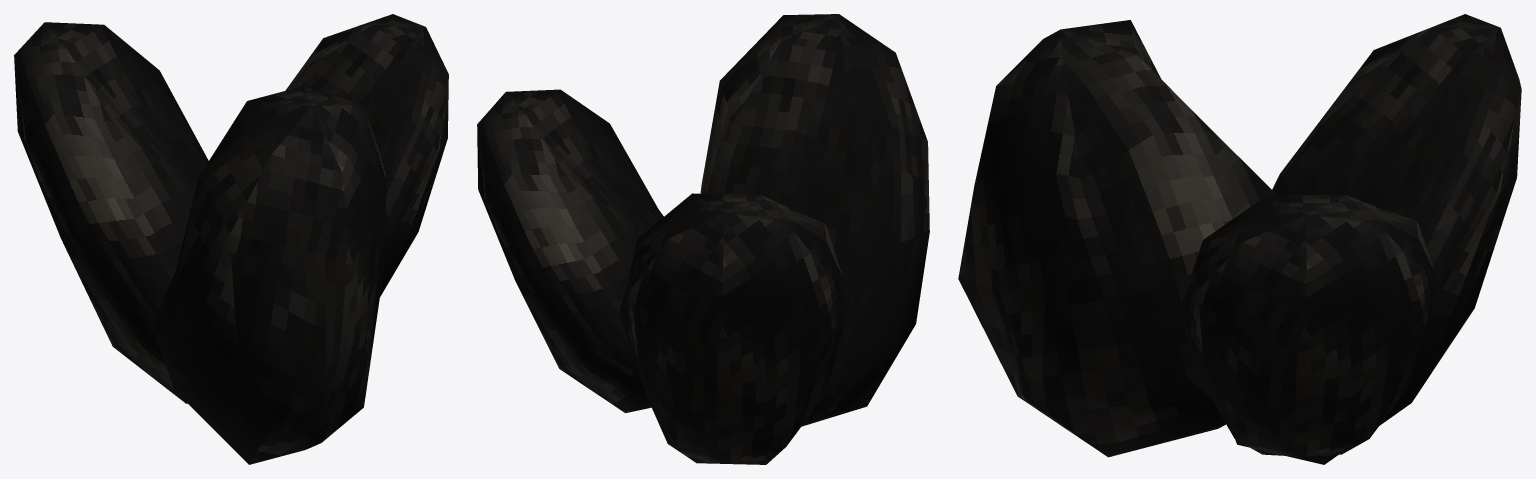
Rendered from rocks.obj.
3 renders of one model, left to right at view 1: azimuth 30°, elevation 25°; view 2: azimuth 150°, elevation 25°; view 3: azimuth 270°, elevation 25°, orthographic. The views are drawn at different scales.
Visible parts, largest first — view 1: Icosphere.001, Icosphere.002, Icosphere; view 2: Icosphere.001, Icosphere.002, Icosphere; view 3: Icosphere.001, Icosphere, Icosphere.002.
Part boxes in pixels (x1,y1,x2,y2): Icosphere.001: (152, 86, 386, 464); Icosphere.002: (14, 22, 208, 403); Icosphere: (285, 14, 448, 296); Icosphere.001: (700, 14, 929, 426); Icosphere.002: (619, 193, 850, 464); Icosphere: (477, 89, 663, 413); Icosphere.001: (958, 20, 1277, 457); Icosphere: (1178, 195, 1441, 456); Icosphere.002: (1235, 14, 1521, 464).
Size of the model in its own units: 3.88 by 3.62 by 4.4.
Materials: 1 (1 with a texture image).
